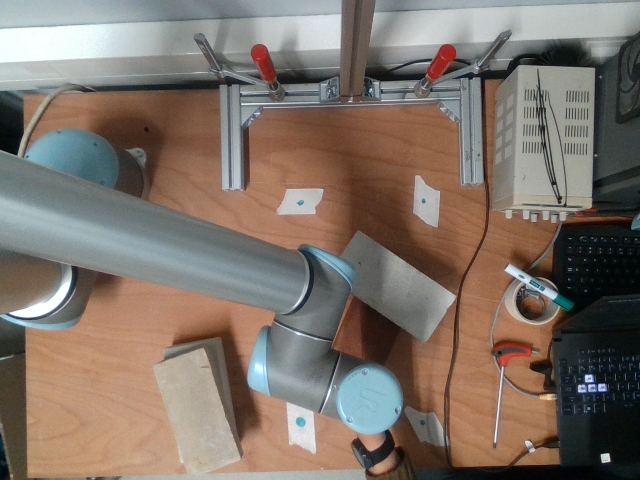brick: (153, 348, 242, 475)
